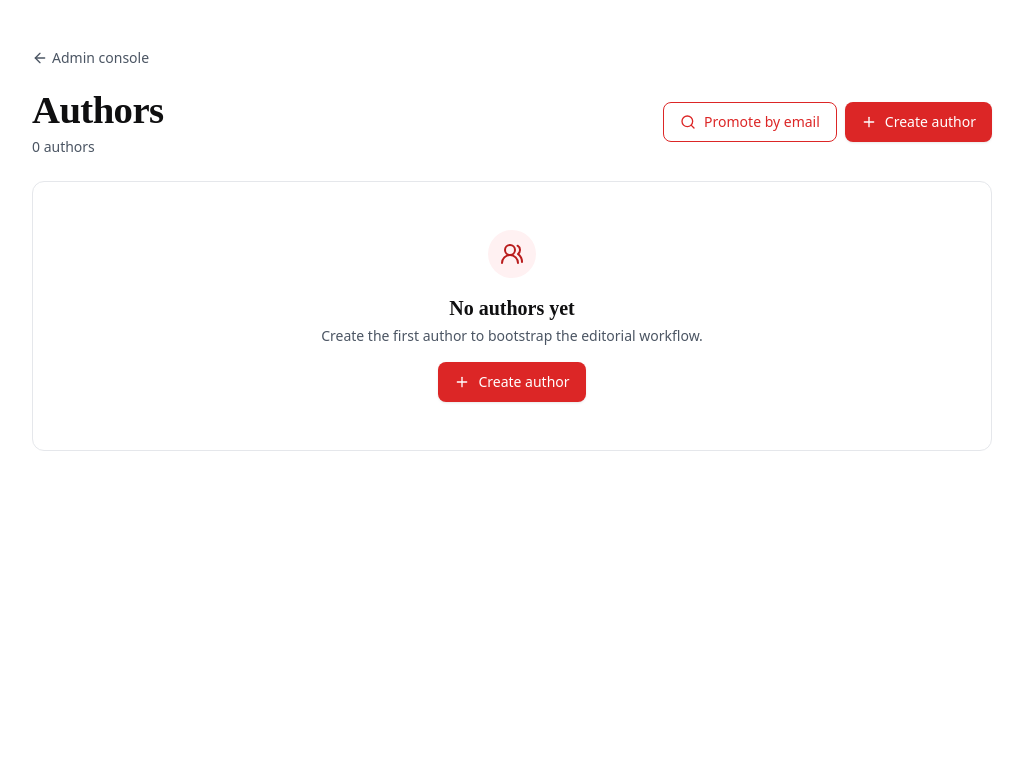
<AdminAuthorsPage> › shows a 404 error inline when the email is not found
Click the button "Promote by email" at point(750, 122), box left=663, top=102, right=837, bottom=142
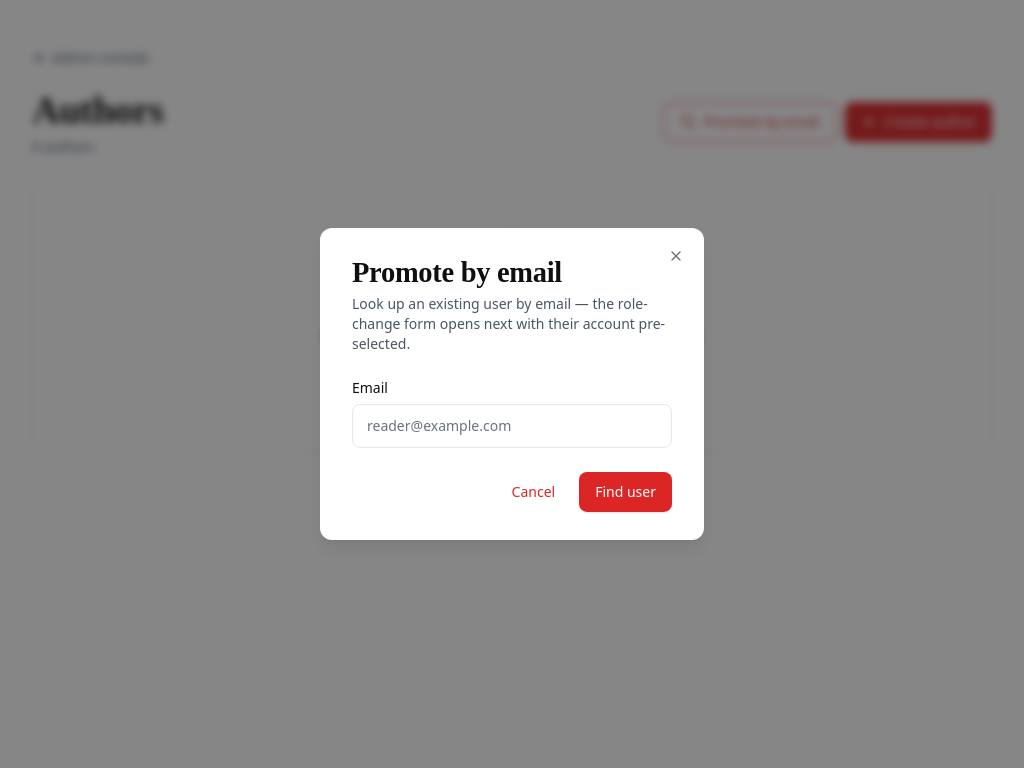
Type "ghost@example.com" into the field labelled "Email" at point(512, 426), box left=367, top=416, right=657, bottom=436
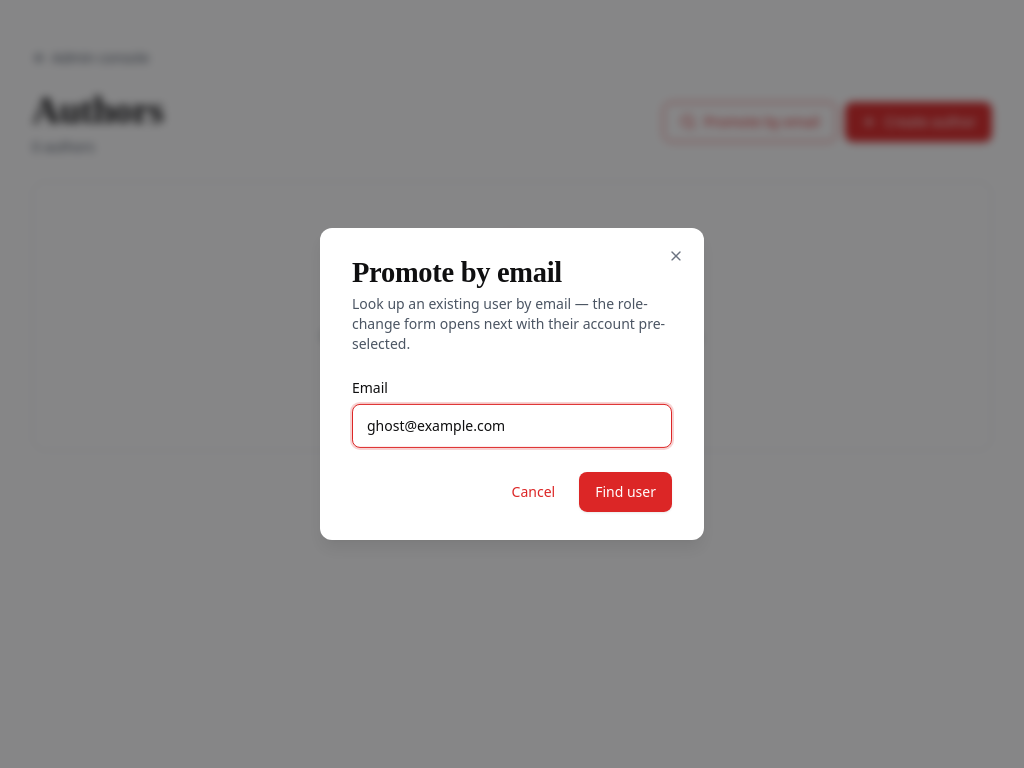
Click the button "Find user" at point(626, 492), box left=579, top=472, right=672, bottom=512
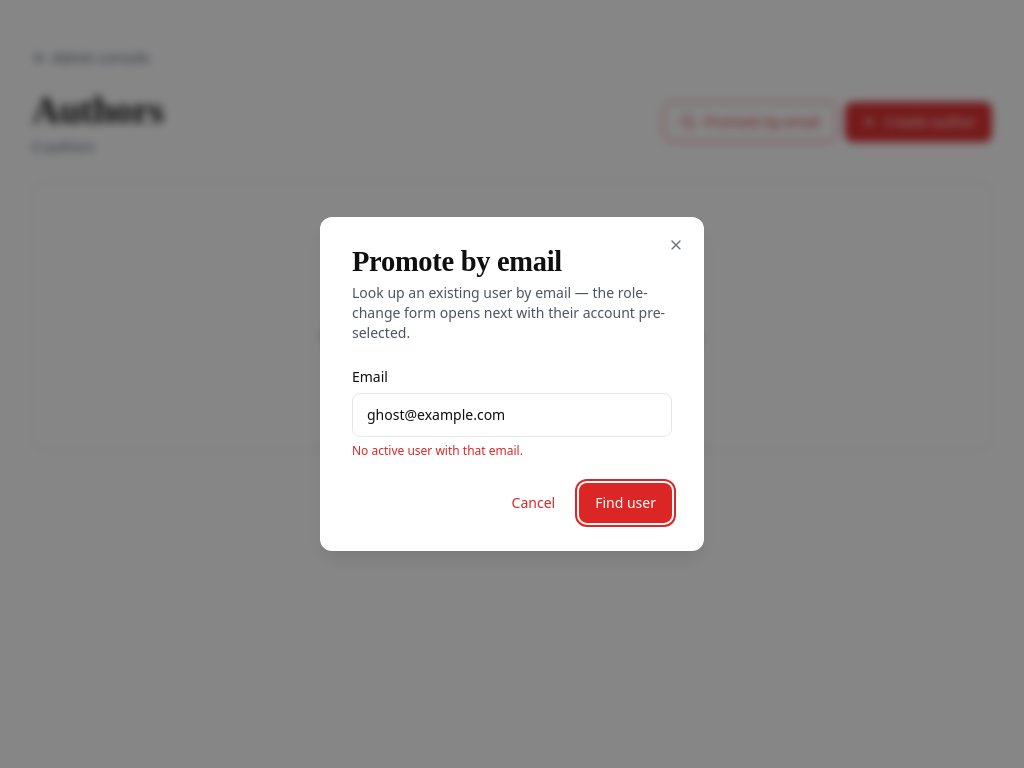
Check: the text "No active user with that email." is shown, box left=352, top=442, right=523, bottom=459
